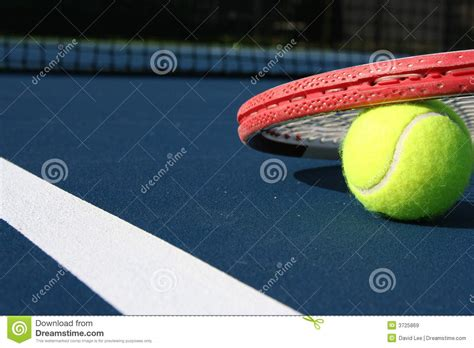tennis_ball: (340, 99, 474, 221)
